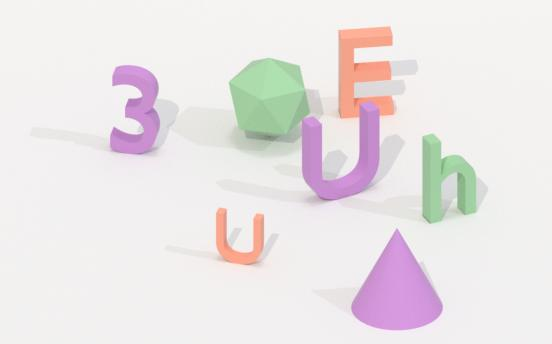3: (107, 60, 161, 166)
E-hoa: (335, 23, 402, 122)
dagiac: (223, 53, 313, 138)
h: (418, 130, 479, 224)
non: (348, 225, 447, 332)
u: (296, 101, 385, 201), (213, 201, 271, 267)
